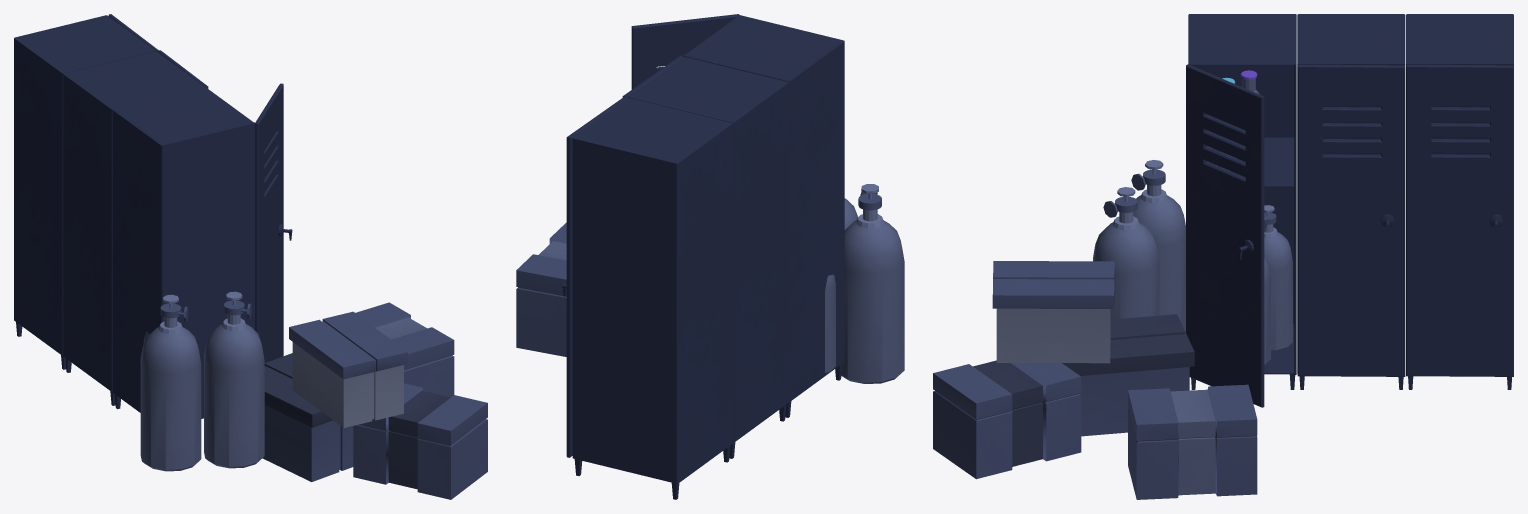
Rendered from cabinet.fbx.
3 views of the same model, side by side, from view 1: azimuth 30°, elevation 25°; view 2: azimuth 150°, elevation 25°; view 3: azimuth 270°, elevation 25° (orthographic). The views are drawn at different scales.
Parts seen in each view (by area): view 1: cabinet10, pasted__pasted__pasted__polySurfaceShape298, pasted__pasted__pasted__pCube28, pasted__pasted__pCube9, pasted__pasted__pCube6, pasted__pasted__pasted__pCube27; view 2: cabinet10, pasted__pasted__pasted__polySurfaceShape298, pasted__pasted__pasted__pCube27; view 3: cabinet10, pasted__pasted__pasted__pCube28, pasted__pasted__pasted__polySurfaceShape298, pasted__pasted__pasted__pCube27, pasted__pasted__pCube9, pasted__pasted__pCube6.
Boxes of the visible parts, <box> form: cabinet10: <box>14,14,292,418</box>; pasted__pasted__pasted__polySurfaceShape298: <box>140,291,264,471</box>; pasted__pasted__pasted__pCube28: <box>353,383,487,499</box>; pasted__pasted__pCube9: <box>289,311,407,427</box>; pasted__pasted__pCube6: <box>262,353,353,481</box>; pasted__pasted__pasted__pCube27: <box>355,302,454,397</box>; cabinet10: <box>562,14,844,499</box>; pasted__pasted__pasted__polySurfaceShape298: <box>825,184,904,383</box>; pasted__pasted__pasted__pCube27: <box>516,222,566,356</box>; cabinet10: <box>1186,14,1513,407</box>; pasted__pasted__pasted__pCube28: <box>933,360,1081,479</box>; pasted__pasted__pasted__polySurfaceShape298: <box>1093,160,1292,364</box>; pasted__pasted__pasted__pCube27: <box>1128,384,1257,499</box>; pasted__pasted__pCube9: <box>992,261,1114,363</box>; pasted__pasted__pCube6: <box>1062,314,1194,436</box>.
Size of the model in its own units: 48.72 by 48.02 by 73.88.
